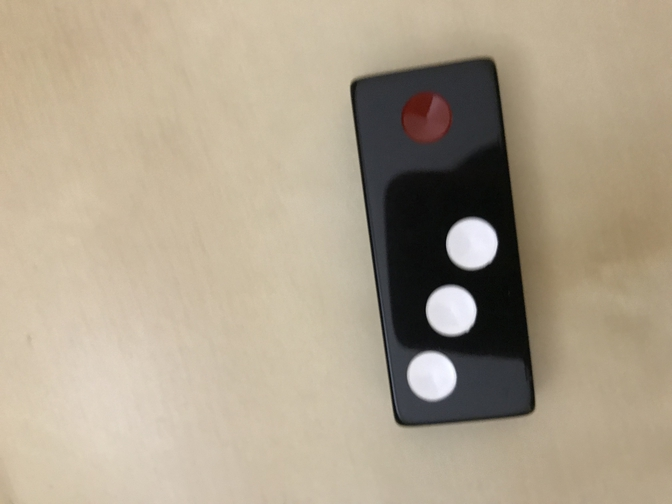goose: (349, 57, 536, 427)
